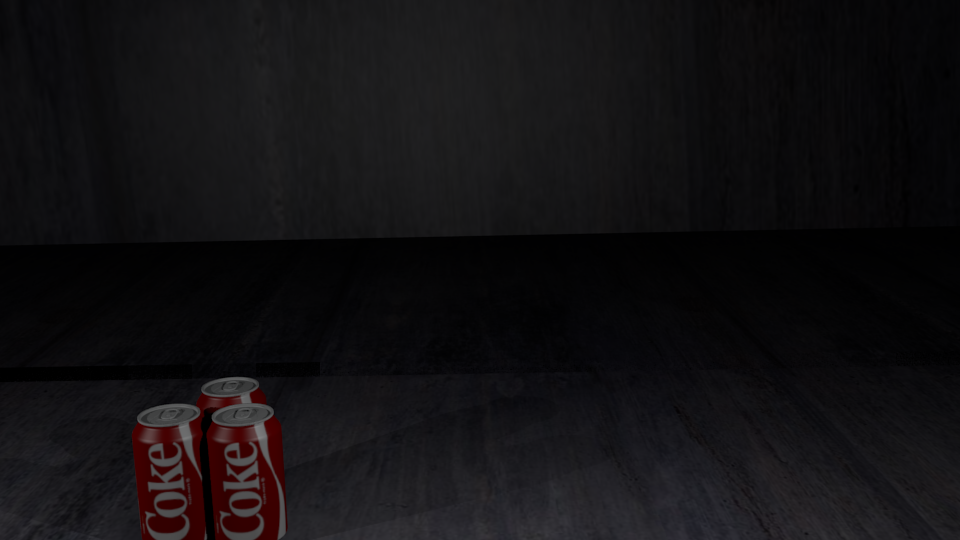cola_can: (132, 404, 210, 539), (206, 404, 284, 539), (197, 377, 265, 509)
